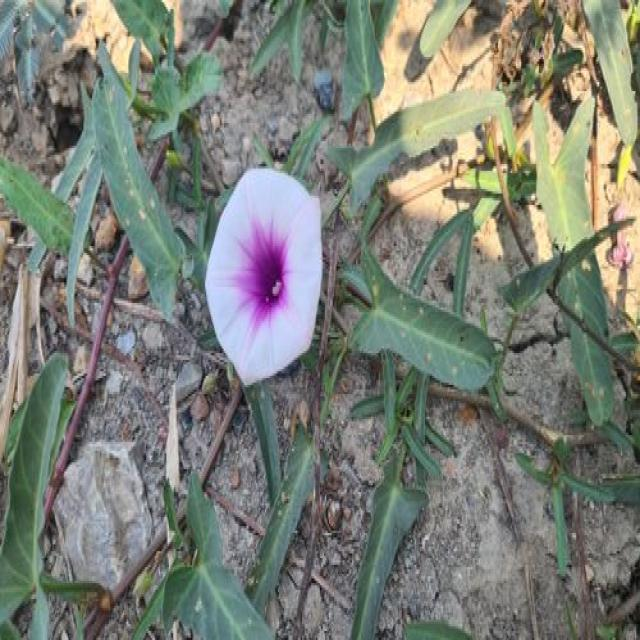ipomoea: (202, 162, 325, 392)
